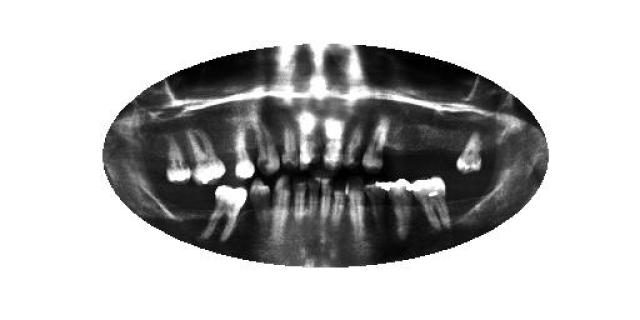Fillings: (410, 175, 449, 229), (388, 178, 410, 238), (366, 182, 389, 232)
